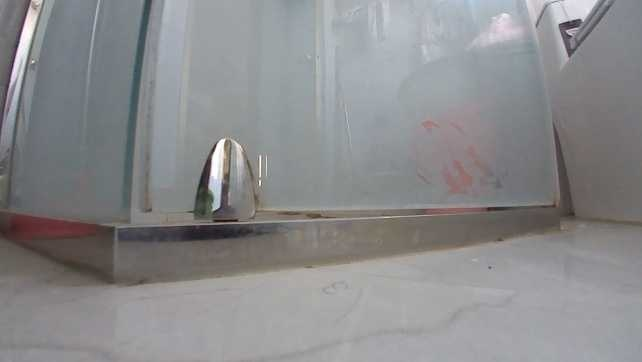door_sill: (0, 207, 569, 287)
toilet: (529, 0, 640, 225)
